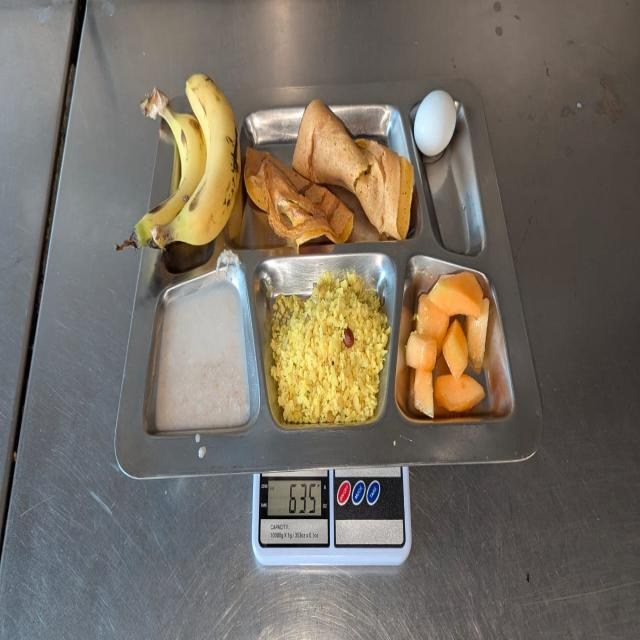Banana: (128, 71, 242, 250)
Besan Chilla: (244, 99, 414, 249)
Boiled Egg: (413, 87, 459, 160)
Muskmelon: (403, 266, 495, 424)
Poha: (269, 268, 392, 425)
Porridge: (154, 284, 250, 431)
